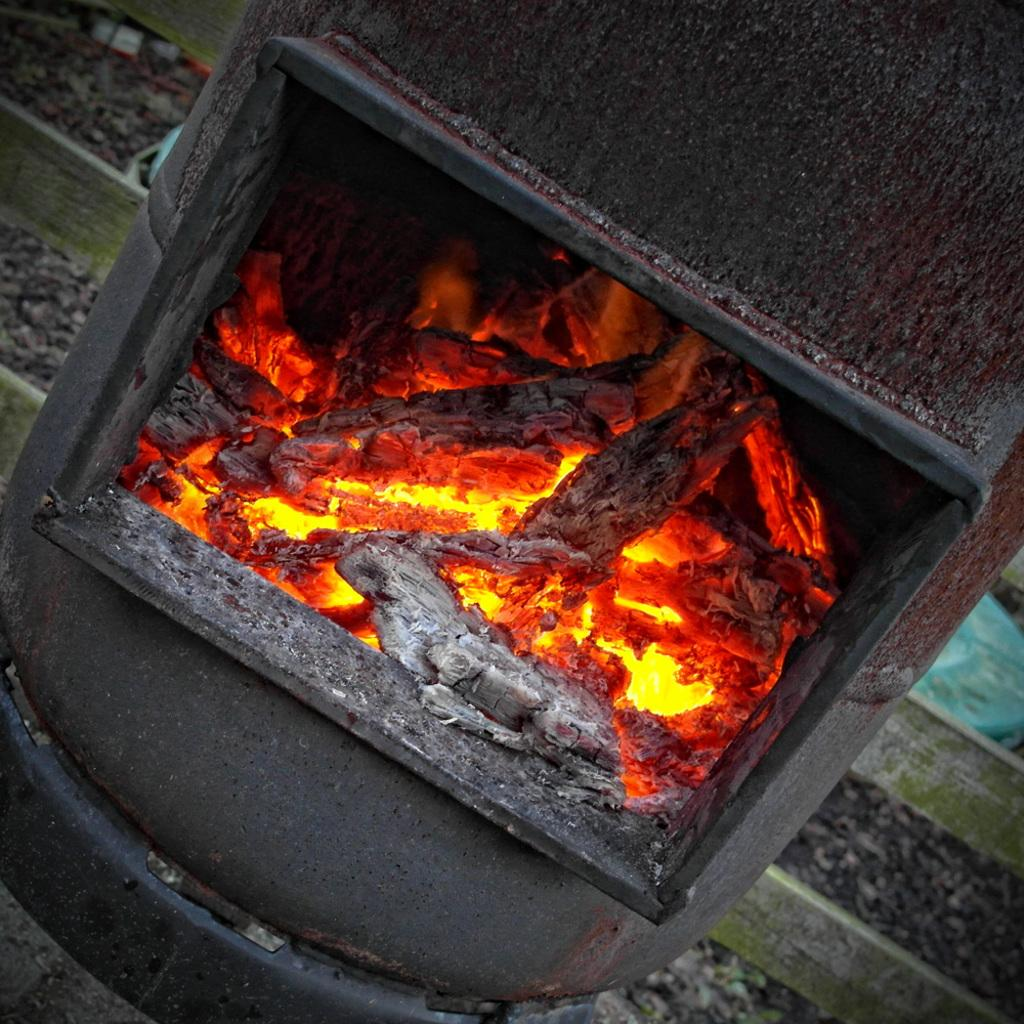Fire: (128, 206, 861, 848)
